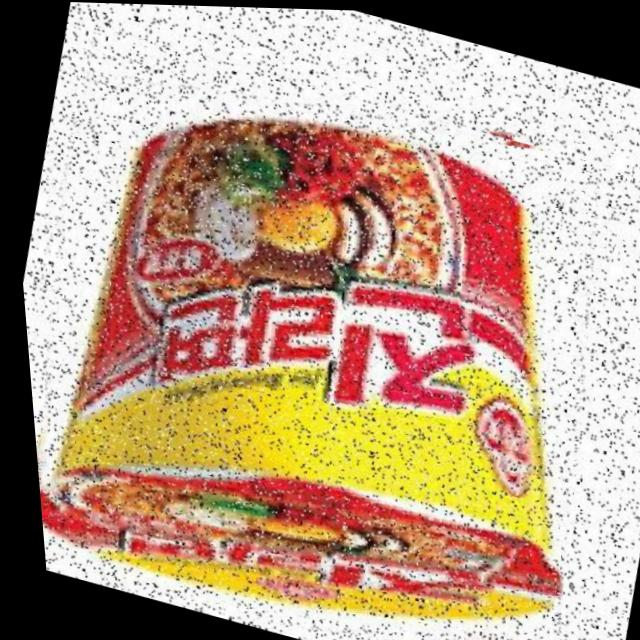Miscellaneous: (1, 17, 640, 640)
